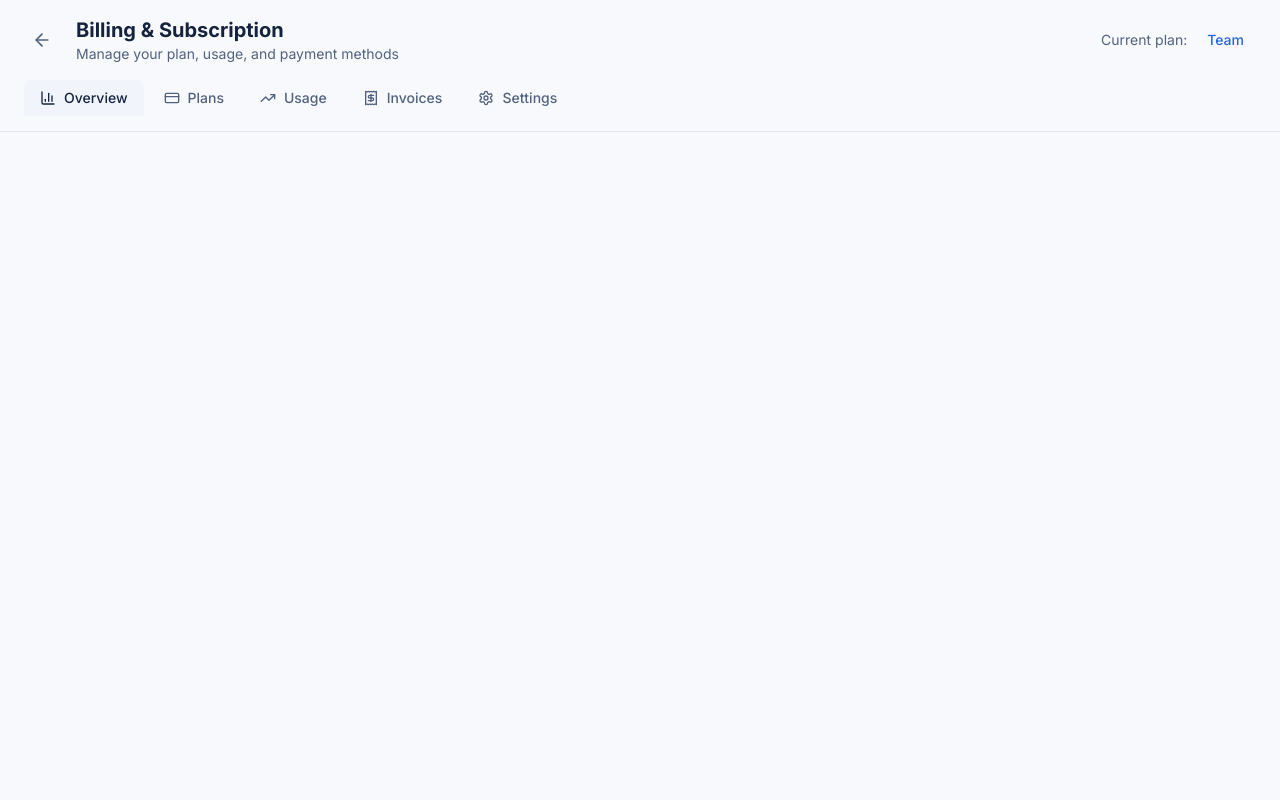
Billing usage history › plots the counts the API actually returns
This screenshot has width=1280, height=800.
Click the button "Usage". click: point(293, 98)
box: [244,80,343,116]
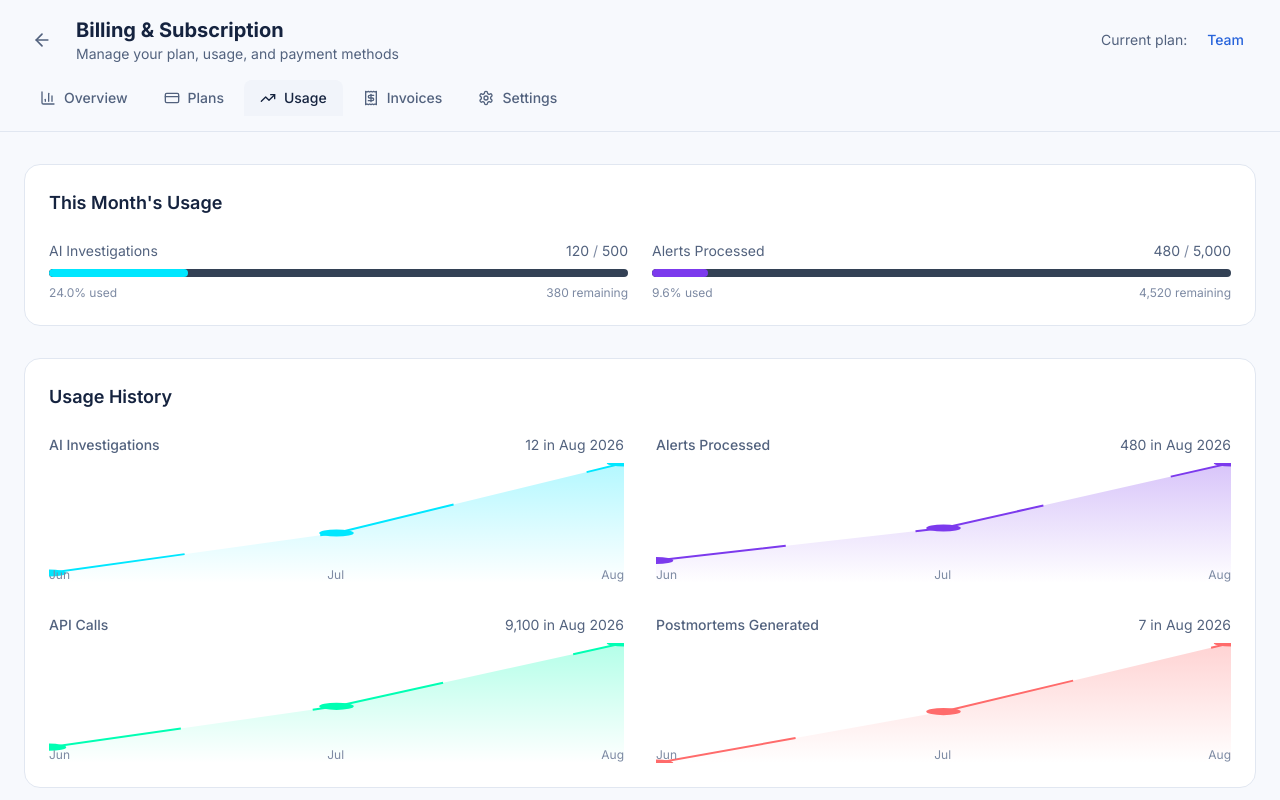
Check: the text "12 in Aug 2026" is shown, box [525,435,624,455]
Check: the text "480 in Aug 2026" is shown, box [1120,435,1231,455]
Check: the text "9,100 in Aug 2026" is shown, box [505,615,624,635]
